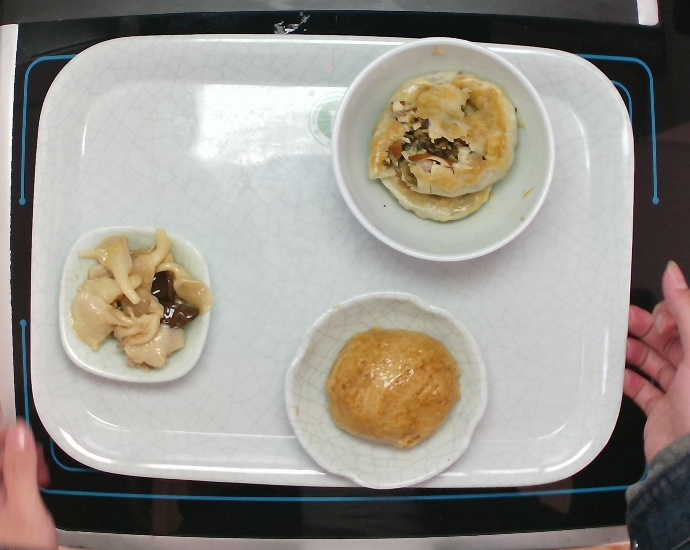JYsf-Ao_Yuan_Wan: (278, 286, 495, 495)
JYsf-Fan_Wan: (325, 32, 559, 266)
JYsf-Si_Fang_Die: (48, 222, 220, 388)
